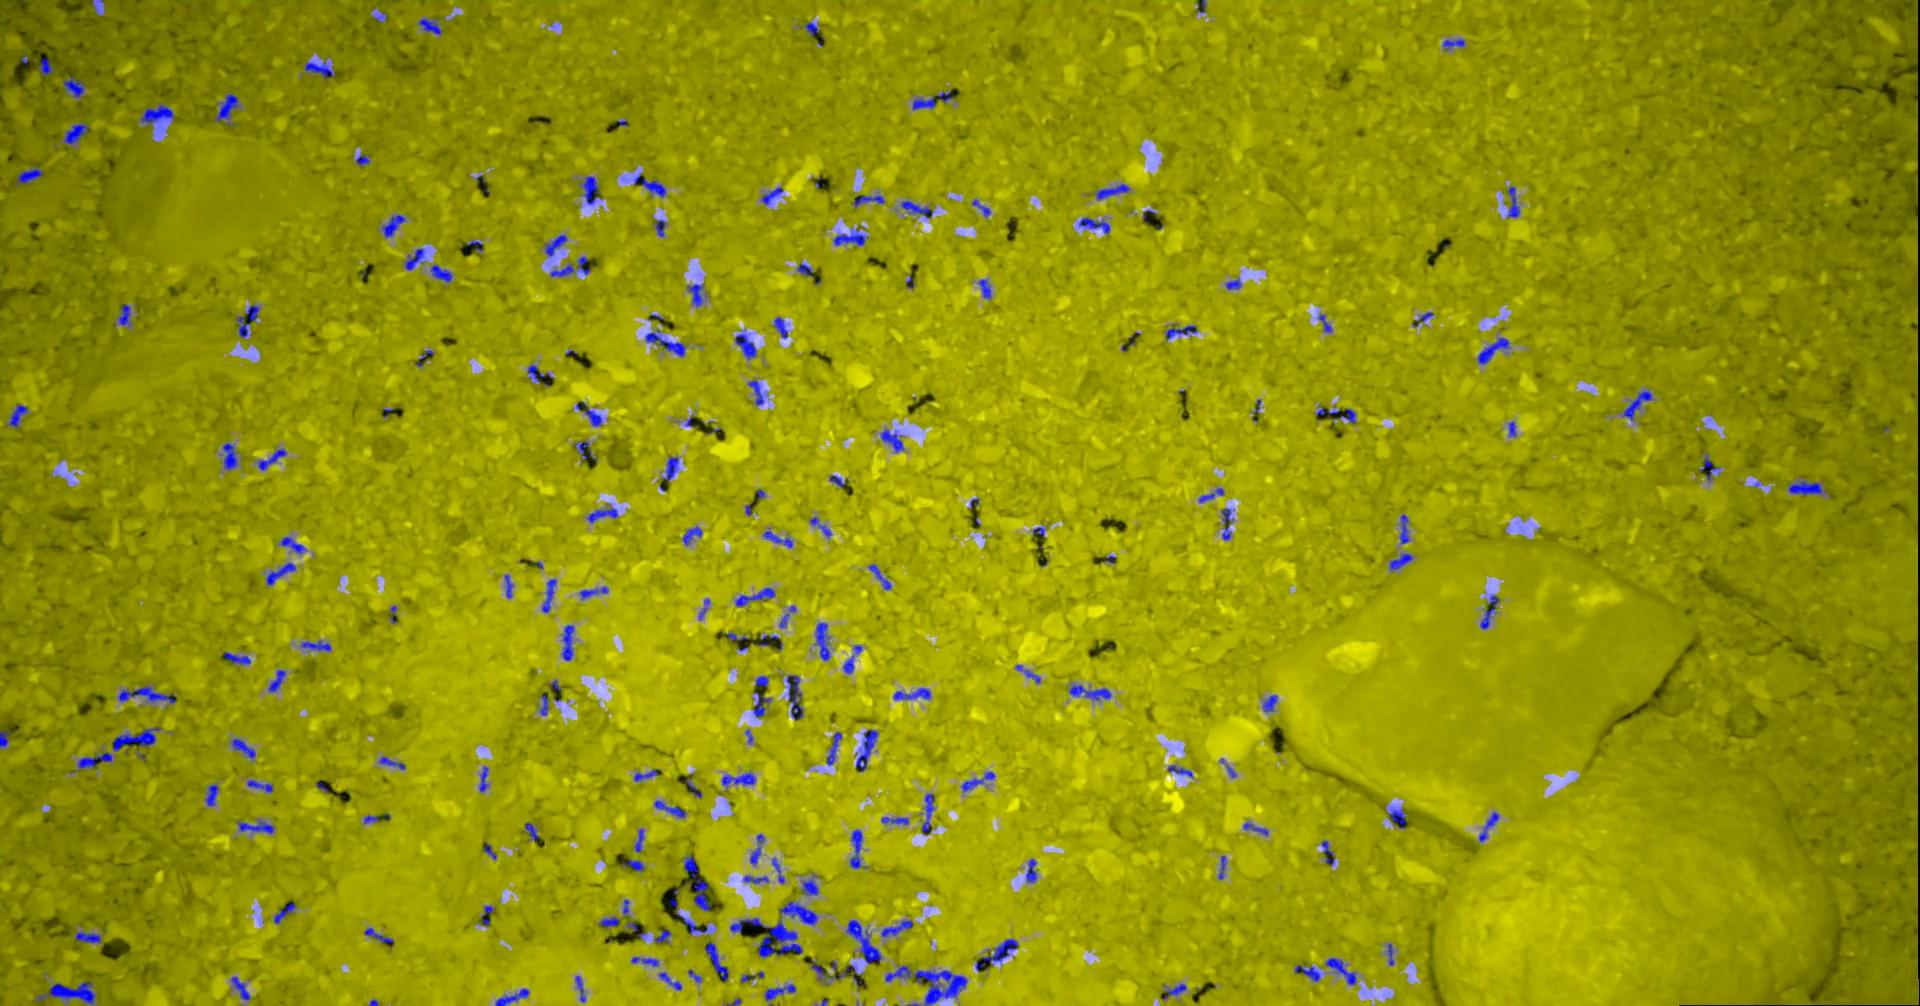ant: (731, 917, 803, 956), (684, 854, 712, 909), (847, 920, 883, 963), (36, 981, 97, 1005), (977, 937, 1020, 970), (813, 959, 863, 987), (670, 898, 709, 934), (114, 727, 161, 749), (648, 330, 687, 356), (119, 686, 177, 702), (857, 729, 879, 771), (780, 901, 819, 923), (1623, 390, 1653, 419), (1479, 337, 1511, 365), (706, 942, 729, 981), (1327, 956, 1357, 984), (551, 255, 592, 276), (216, 93, 243, 123), (237, 304, 262, 337), (913, 91, 954, 111), (737, 587, 776, 606), (636, 173, 667, 197), (267, 561, 297, 586), (1481, 594, 1501, 629), (963, 771, 997, 791), (1070, 683, 1112, 700), (141, 104, 177, 123), (789, 674, 804, 719), (737, 329, 758, 359), (577, 401, 603, 426), (259, 448, 288, 470), (79, 751, 113, 768), (902, 199, 935, 217), (836, 227, 869, 245), (383, 213, 408, 238), (1481, 810, 1500, 841), (63, 122, 90, 144), (1097, 183, 1131, 199), (584, 175, 603, 205), (870, 564, 891, 589), (497, 988, 530, 1005), (817, 622, 830, 661), (923, 793, 936, 835), (883, 920, 914, 936), (766, 983, 797, 1000), (546, 234, 569, 257), (883, 429, 905, 452), (764, 530, 794, 547), (563, 624, 577, 661), (306, 61, 337, 77), (1790, 480, 1823, 495), (657, 800, 687, 817), (17, 166, 44, 184), (8, 404, 29, 427), (274, 902, 297, 923), (232, 738, 257, 758), (1079, 217, 1111, 232), (828, 732, 843, 763), (851, 829, 863, 868), (543, 578, 557, 612), (723, 771, 757, 785), (221, 442, 239, 469), (65, 75, 86, 97), (588, 507, 618, 522), (750, 833, 766, 864), (530, 365, 554, 384), (1017, 664, 1041, 683), (756, 691, 773, 716), (240, 821, 276, 833), (281, 536, 307, 553), (811, 516, 833, 536), (762, 185, 785, 205), (406, 248, 425, 271), (688, 283, 707, 306), (660, 970, 683, 989), (232, 976, 251, 998), (663, 456, 681, 480), (1702, 457, 1719, 481), (1167, 325, 1197, 339), (366, 927, 394, 942), (895, 687, 932, 699), (1509, 185, 1521, 217), (1390, 553, 1415, 569), (582, 586, 610, 600), (577, 439, 597, 459), (1200, 486, 1225, 502), (1223, 508, 1236, 539), (1297, 965, 1322, 981), (1163, 983, 1189, 998), (269, 669, 287, 691), (419, 18, 442, 34), (432, 264, 455, 281), (248, 779, 274, 793), (749, 380, 764, 404), (855, 194, 886, 206), (684, 526, 703, 545), (380, 756, 408, 768), (973, 198, 992, 216), (225, 652, 251, 664), (635, 768, 662, 781), (1389, 808, 1407, 827), (1170, 763, 1194, 777), (1244, 822, 1270, 835), (1323, 840, 1336, 865), (773, 857, 786, 883), (303, 639, 331, 650), (803, 878, 820, 895), (1415, 311, 1435, 326), (775, 316, 789, 338), (1263, 694, 1279, 713), (207, 784, 220, 807), (1401, 514, 1411, 542), (364, 813, 392, 823), (483, 904, 497, 925), (632, 956, 660, 967), (77, 931, 102, 942), (119, 304, 132, 325), (623, 857, 645, 870), (526, 822, 541, 840), (577, 976, 587, 1002), (757, 634, 780, 645), (480, 766, 490, 791), (1341, 408, 1357, 423), (1319, 314, 1333, 332), (883, 815, 910, 824), (1444, 38, 1465, 50), (1027, 857, 1037, 882), (980, 279, 993, 298), (505, 574, 516, 597), (41, 57, 55, 74), (797, 263, 815, 276), (844, 654, 856, 673), (636, 828, 645, 852), (806, 22, 822, 36), (657, 929, 672, 942), (1227, 277, 1243, 290), (601, 916, 621, 926), (541, 694, 550, 715), (1219, 855, 1227, 879), (745, 875, 770, 883), (657, 218, 667, 236), (1, 729, 11, 747), (357, 155, 371, 166), (757, 674, 770, 686)
